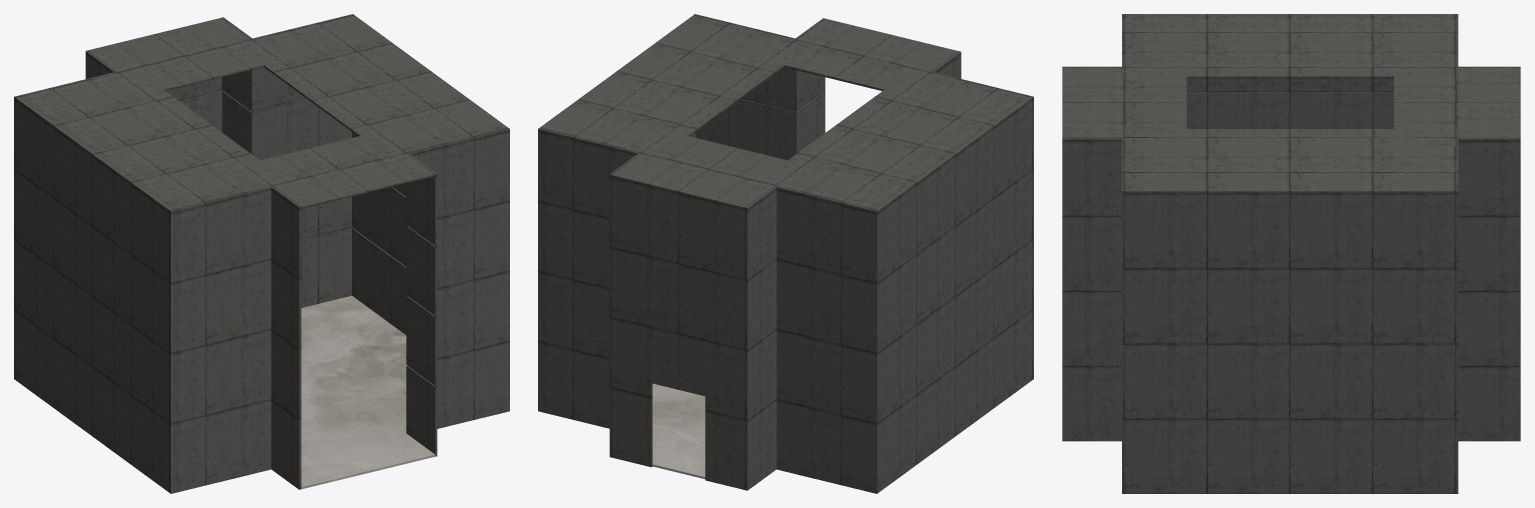
File: chamber2.gltf
3 renders of one model, left to right at view 1: azimuth 30°, elevation 25°; view 2: azimuth 150°, elevation 25°; view 3: azimuth 270°, elevation 25°, orthographic. The views are drawn at different scales.
Visible parts, largest first — view 1: chamber2; view 2: chamber2; view 3: chamber2.
Part boxes in pixels (bbox=[...]): chamber2: bbox=[14, 14, 509, 493]; chamber2: bbox=[538, 14, 1033, 493]; chamber2: bbox=[1062, 14, 1520, 493].
Size of the model in its own units: 5.06 by 4.03 by 5.53.
2 materials, 2 textured.
